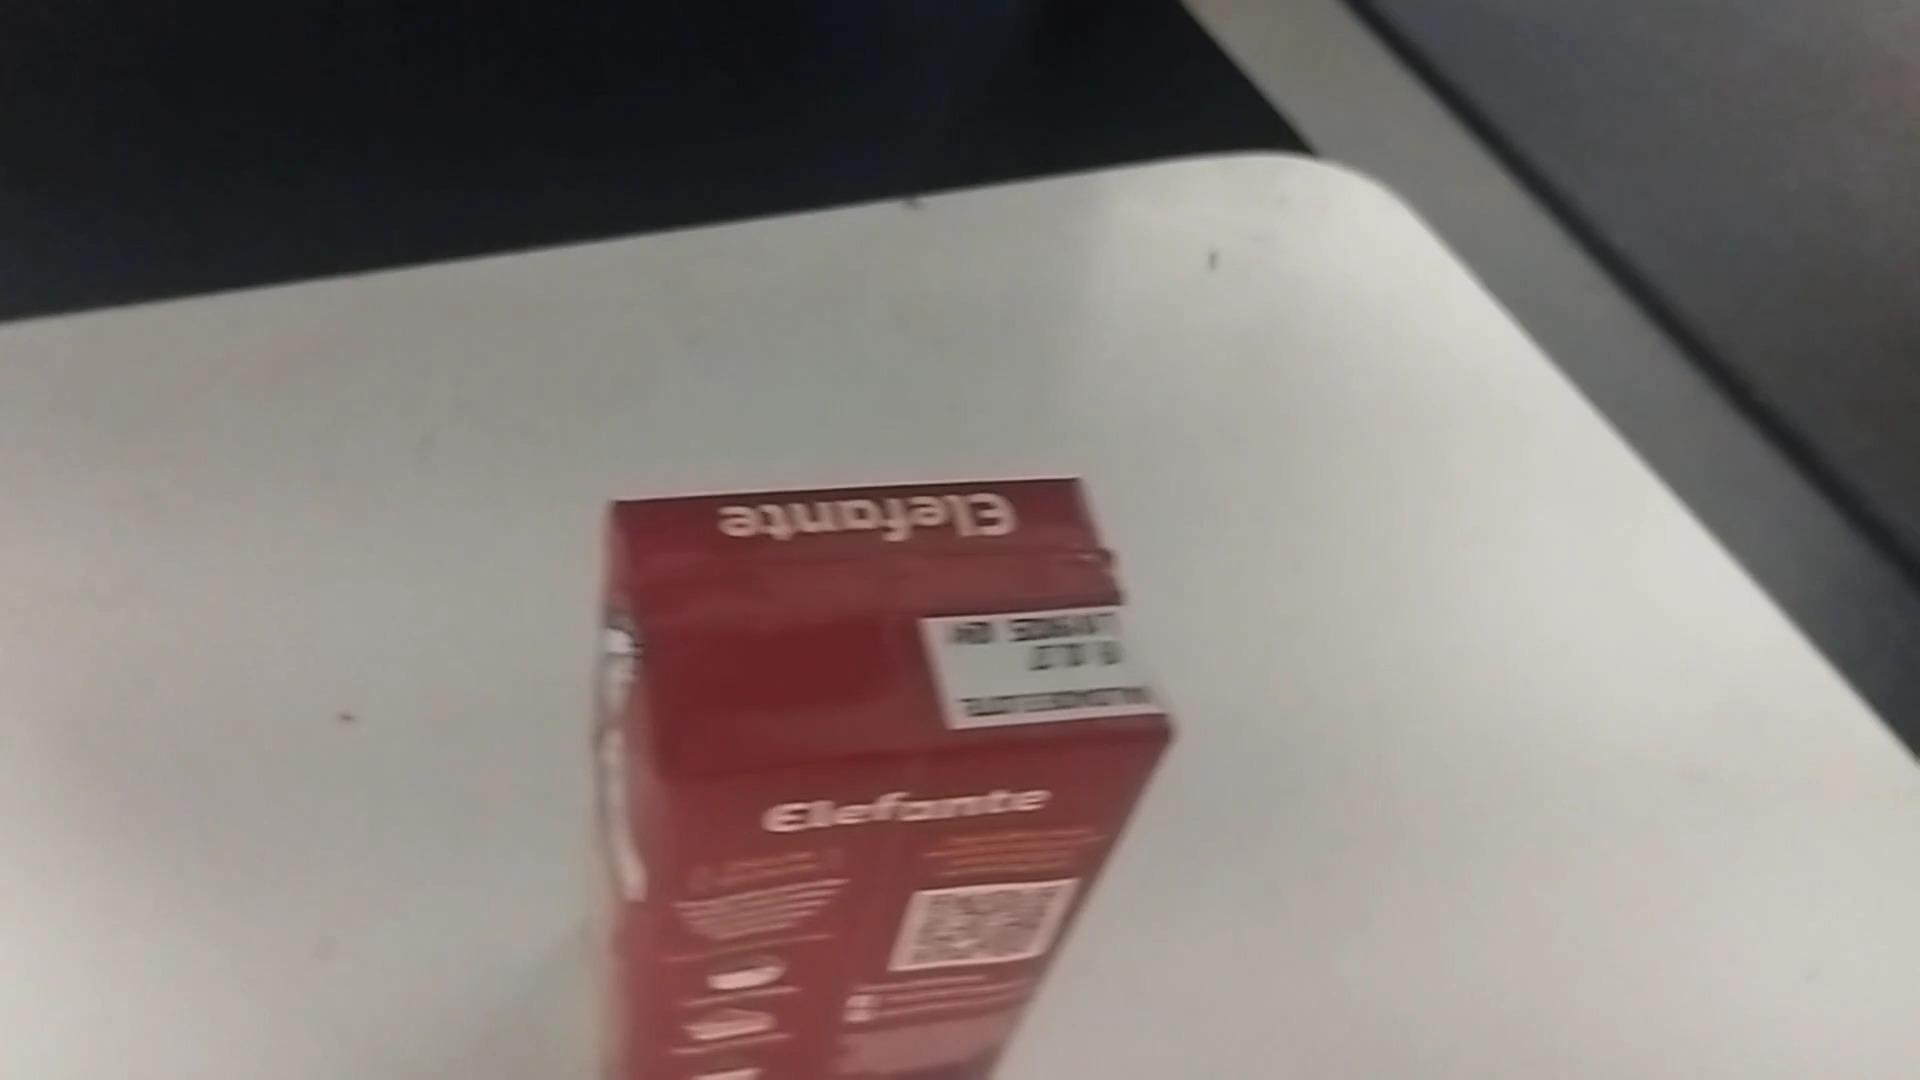tomate: (541, 436, 1278, 1069)
